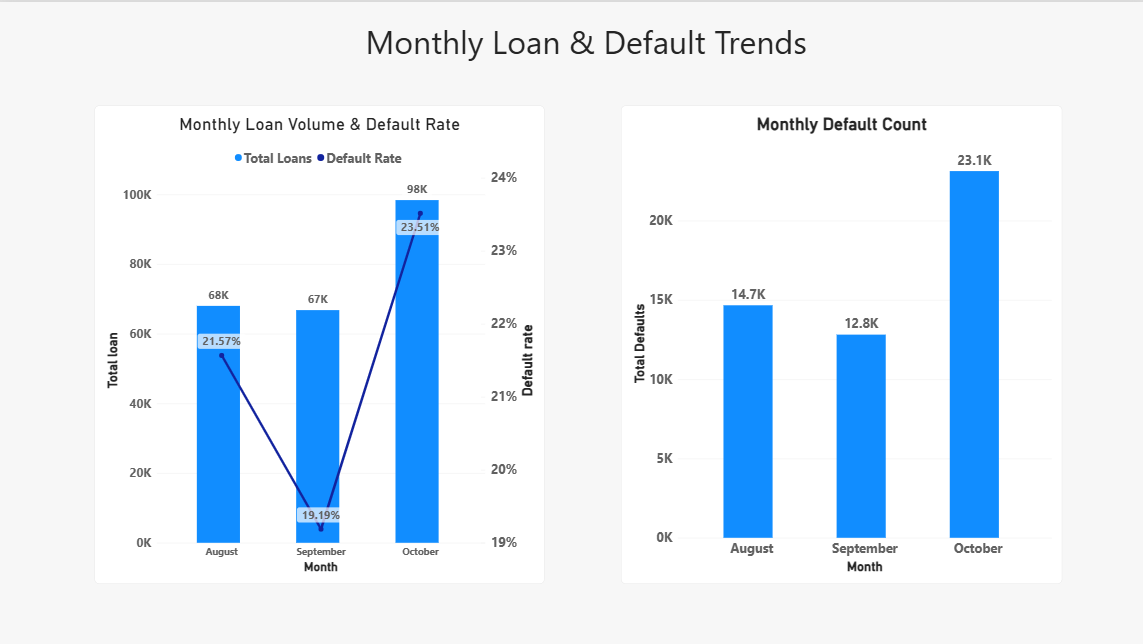

The dashboard page shown, as its layout file describes it:
{"tool":"powerbi","page":{"name":"Monthly Loan & Default Trends","canvas":[1920,1080],"ordinal":3},"visuals":[{"type":"textbox","box":[432.5,30,1095,125],"z":0},{"type":"lineClusteredColumnComboChart","title":"Monthly Loan Volume & Default Rate","fields":{"Category":["vehicle_loan_analysis.DisbursalDate.Variation.Date Hierarchy.Month"],"Y":["vehicle_loan_analysis.Total Loans"],"Y2":["vehicle_loan_analysis.Default Rate"]},"box":[162.5,172.5,750,797.5],"z":1000},{"type":"clusteredColumnChart","title":"Monthly Default Count","fields":{"Category":["vehicle_loan_analysis.DisbursalDate.Variation.Date Hierarchy.Month"],"Y":["vehicle_loan_analysis.Total Defaults"]},"box":[1040,172.5,735,797.5],"z":2000}]}

Visuals, with their boxes in screenshot pixels (x1, y1, x2, y2), scaled from the page's 1920x1080 canvas onto the 1143x644 screenshot:
textbox: pyautogui.locateOnScreen(257, 18, 909, 92)
"Monthly Loan Volume & Default Rate" lineClusteredColumnComboChart: pyautogui.locateOnScreen(97, 103, 543, 578)
"Monthly Default Count" clusteredColumnChart: pyautogui.locateOnScreen(619, 103, 1057, 578)
